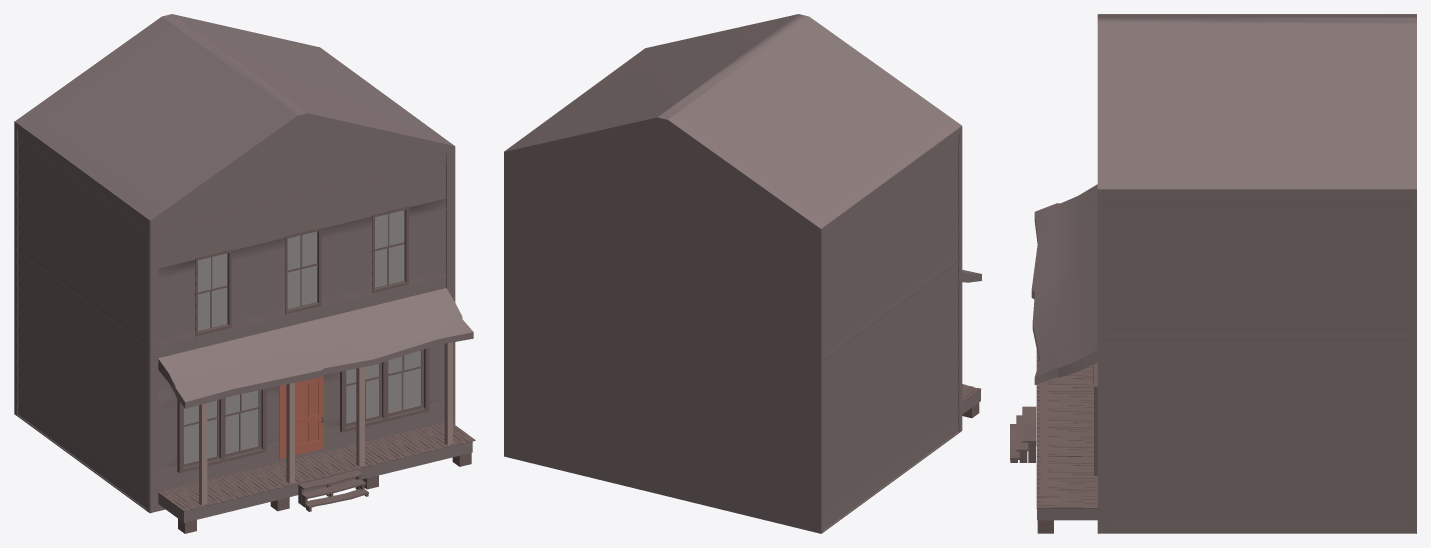
Rendered from house.fbx.
The picture shows the model from 3 angles, left to right: view 1: azimuth 30°, elevation 25°; view 2: azimuth 150°, elevation 25°; view 3: azimuth 270°, elevation 25°; orthographic projection. The views are drawn at different scales.
Visible parts, largest first — view 1: house, window_lower, window_lower4, window_upper2, window_upper, window_upper1, front_door, pCube98, pCube97, pCube100, pCube99; view 2: house; view 3: house, pCube98, pCube118.
Boxes of the visible parts, x1,y1,x2,y2 form: house: [14, 14, 473, 522]; window_lower: [177, 388, 266, 472]; window_lower4: [340, 348, 429, 432]; window_upper2: [372, 206, 408, 293]; window_upper: [195, 249, 231, 336]; window_upper1: [285, 227, 321, 314]; front_door: [279, 376, 323, 459]; pCube98: [444, 342, 452, 445]; pCube97: [199, 403, 207, 504]; pCube100: [286, 382, 294, 483]; pCube99: [356, 367, 364, 466]; house: [504, 14, 981, 533]; house: [1031, 14, 1416, 533]; pCube98: [1040, 380, 1047, 495]; pCube118: [1022, 406, 1036, 442].
Size of the model in its own units: 19.94 by 22.87 by 19.58.
